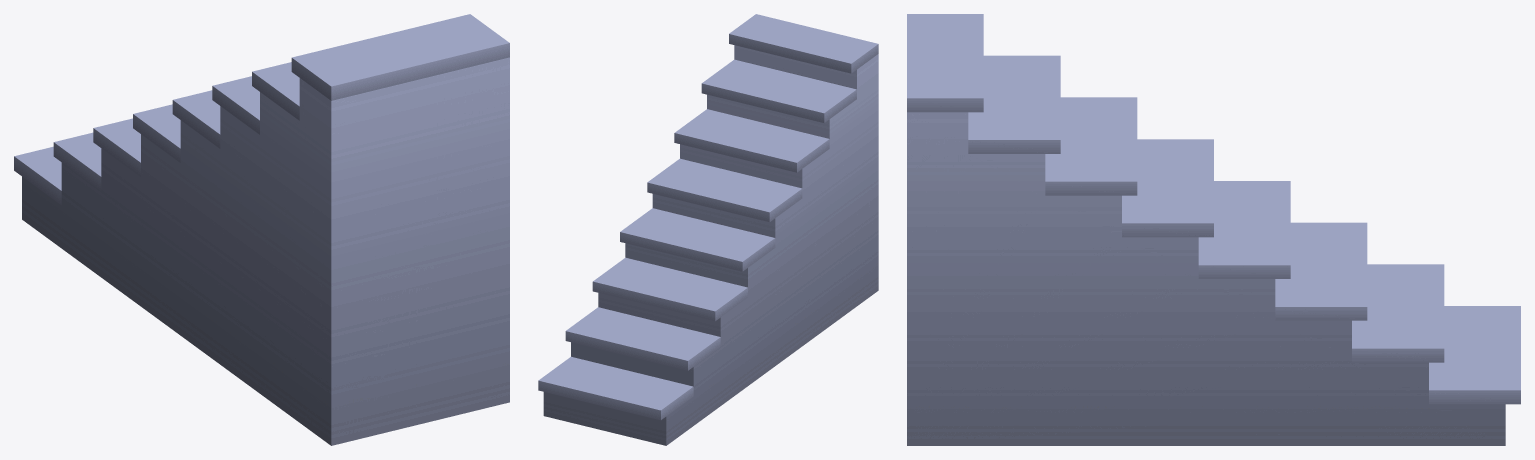
Rendered from stairs-closed.001_lev2.glb.
3 renders of one model, left to right at view 1: azimuth 30°, elevation 25°; view 2: azimuth 150°, elevation 25°; view 3: azimuth 270°, elevation 25°, orthographic. The views are drawn at different scales.
Parts seen in each view (by area): view 1: stairs-closed.001_lev2; view 2: stairs-closed.001_lev2; view 3: stairs-closed.001_lev2.
Part boxes in pixels (bbox=[...]): stairs-closed.001_lev2: bbox=[14, 14, 509, 445]; stairs-closed.001_lev2: bbox=[538, 14, 878, 445]; stairs-closed.001_lev2: bbox=[907, 14, 1520, 445].
Size of the model in its own units: 1.3 by 2.5 by 4.
1 material, 1 textured.
